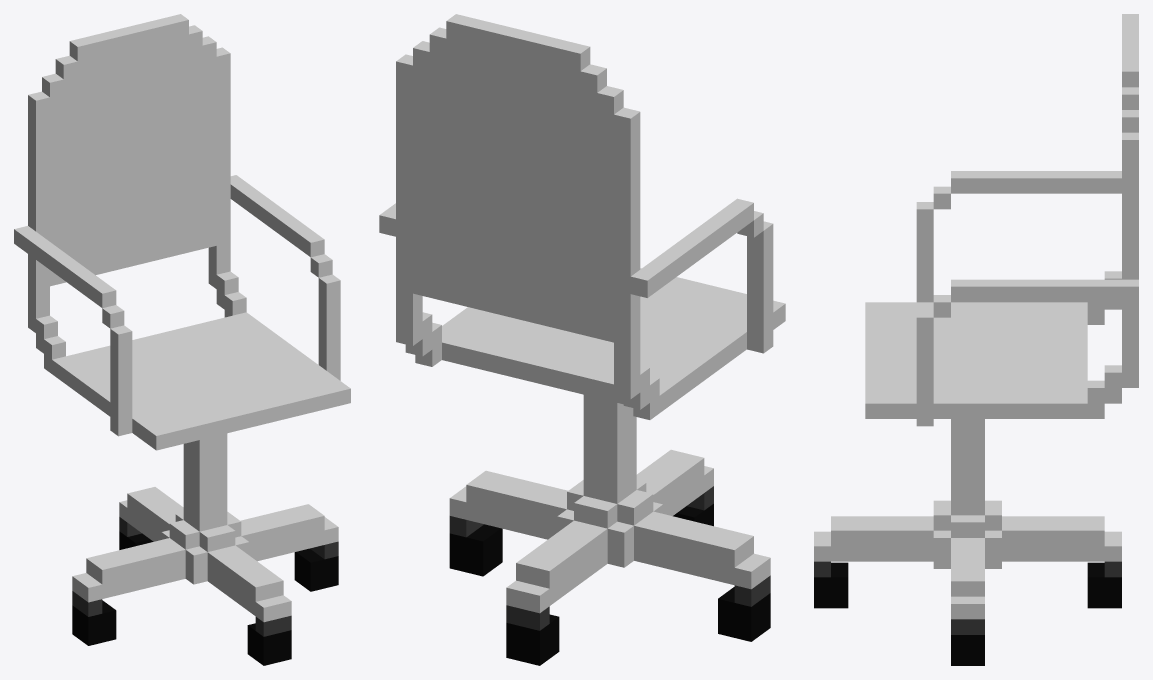
Rendered from Environment_UntiledLabs_Furniture-4.obj.
3 renders of one model, left to right at view 1: azimuth 30°, elevation 25°; view 2: azimuth 150°, elevation 25°; view 3: azimuth 270°, elevation 25°, orthographic. The views are drawn at different scales.
Bounding box in the file's own units: 1.8 × 3.6 × 1.9.
Materials: 1 (1 with a texture image).
